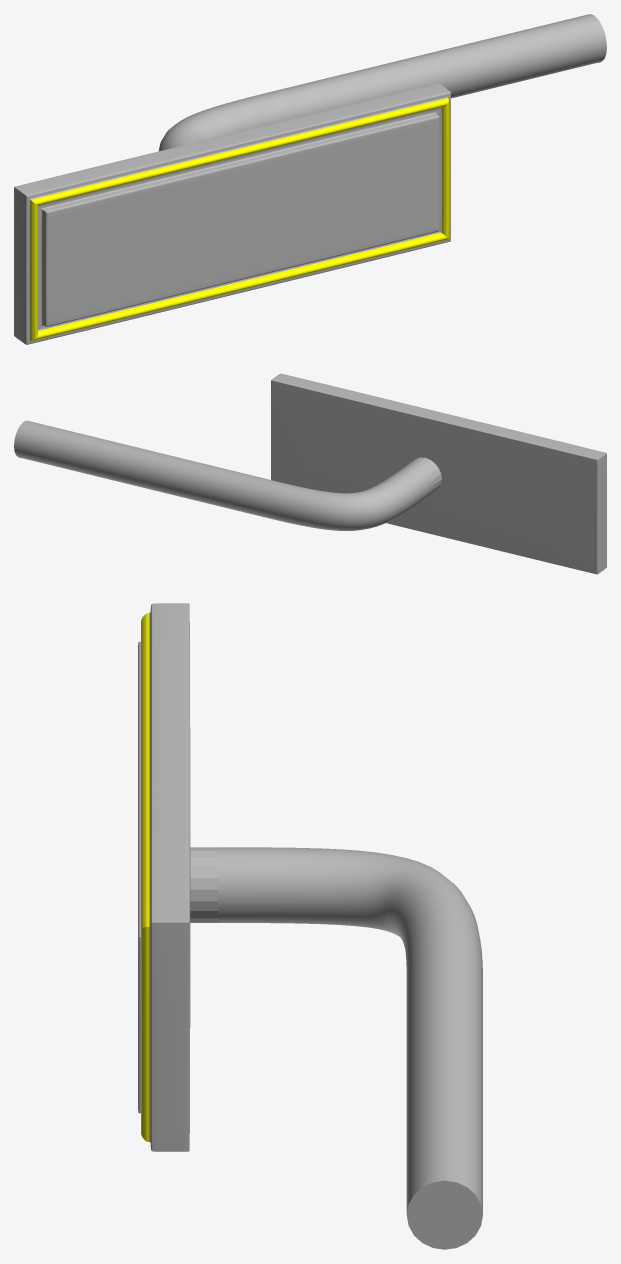
File: mdl_LetereroFinal.fbx
3 renders of one model, top to bottom at view 1: azimuth 30°, elevation 25°; view 2: azimuth 150°, elevation 25°; view 3: azimuth 270°, elevation 25°, orthographic. The views are drawn at different scales.
Visible parts, largest first — view 1: Pivot, pCylinder5; view 2: Pivot, pCylinder5; view 3: pCylinder5, Pivot.
Part boxes in pixels (<box>): Pivot: <box>14,83,450,344</box>; pCylinder5: <box>159,14,606,151</box>; Pivot: <box>271,373,606,574</box>; pCylinder5: <box>14,420,441,530</box>; pCylinder5: <box>190,847,482,1249</box>; Pivot: <box>138,603,190,1151</box>.
Bounding box in the file's own units: 750 × 162 × 220.
